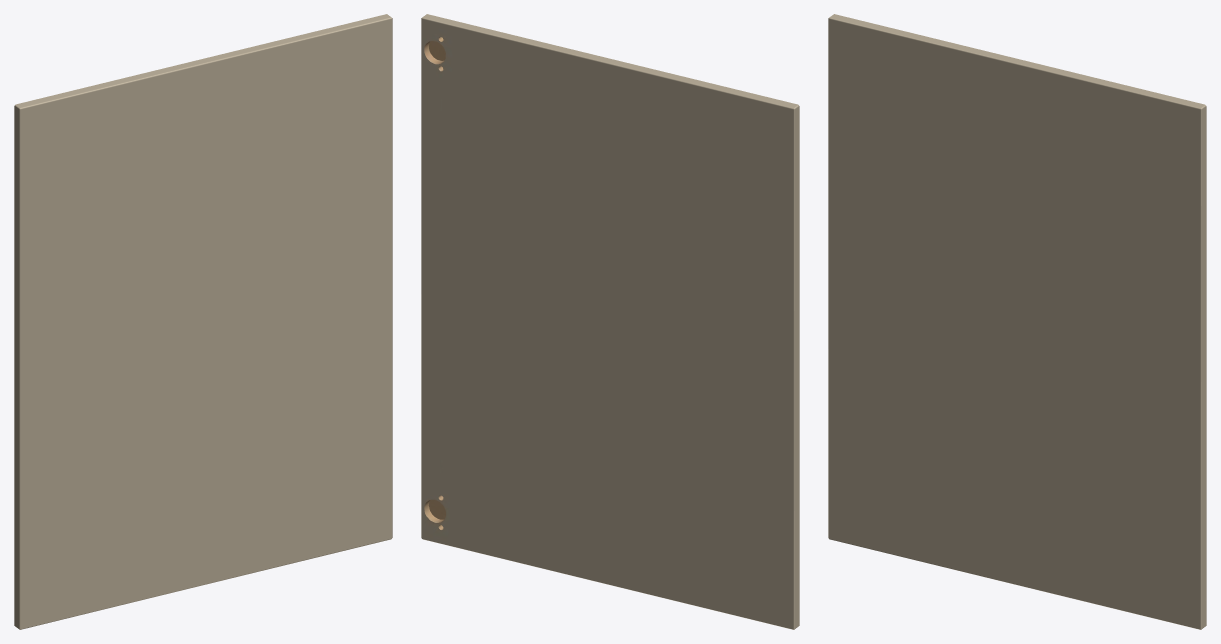
The model's file is havstorp_drzwi_90475273.glb.
3 views of the same model, side by side, from view 1: azimuth 30°, elevation 25°; view 2: azimuth 150°, elevation 25°; view 3: azimuth 330°, elevation 25° (orthographic).
Parts seen in each view (by area): view 1: havstorp_drzwi_90475273; view 2: havstorp_drzwi_90475273; view 3: havstorp_drzwi_90475273.
Part boxes in pixels (x1,y1,x2,y2): havstorp_drzwi_90475273: (14, 14, 392, 629); havstorp_drzwi_90475273: (421, 14, 799, 629); havstorp_drzwi_90475273: (828, 14, 1206, 629).
Bounding box in the file's own units: 0.597 × 0.797 × 0.016.
Materials: 1 (1 with a texture image).
